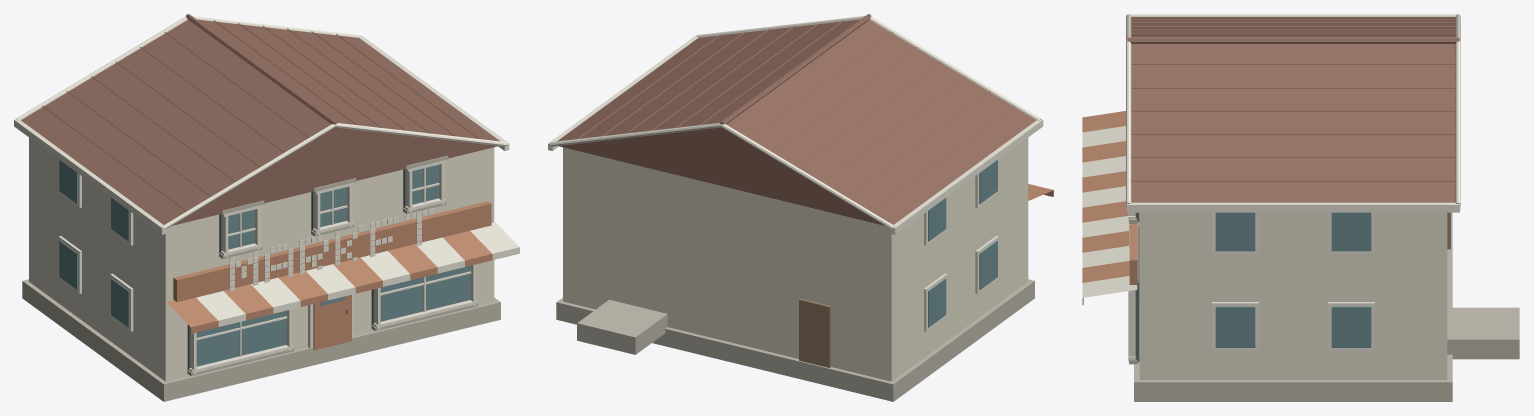
The picture shows the model from 3 angles, left to right: view 1: azimuth 30°, elevation 25°; view 2: azimuth 150°, elevation 25°; view 3: azimuth 270°, elevation 25°; orthographic projection. The views are drawn at different scales.
Bounding box in the file's own units: 12.46 × 8.27 × 12.09.
